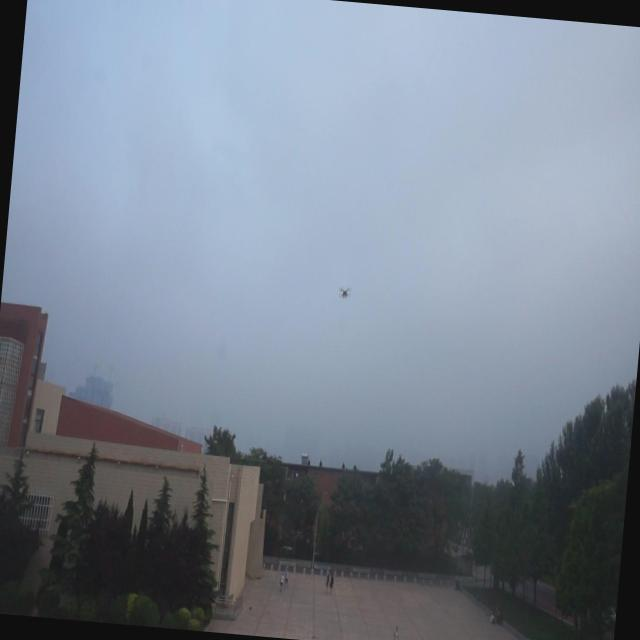drone: (336, 282, 352, 302)
